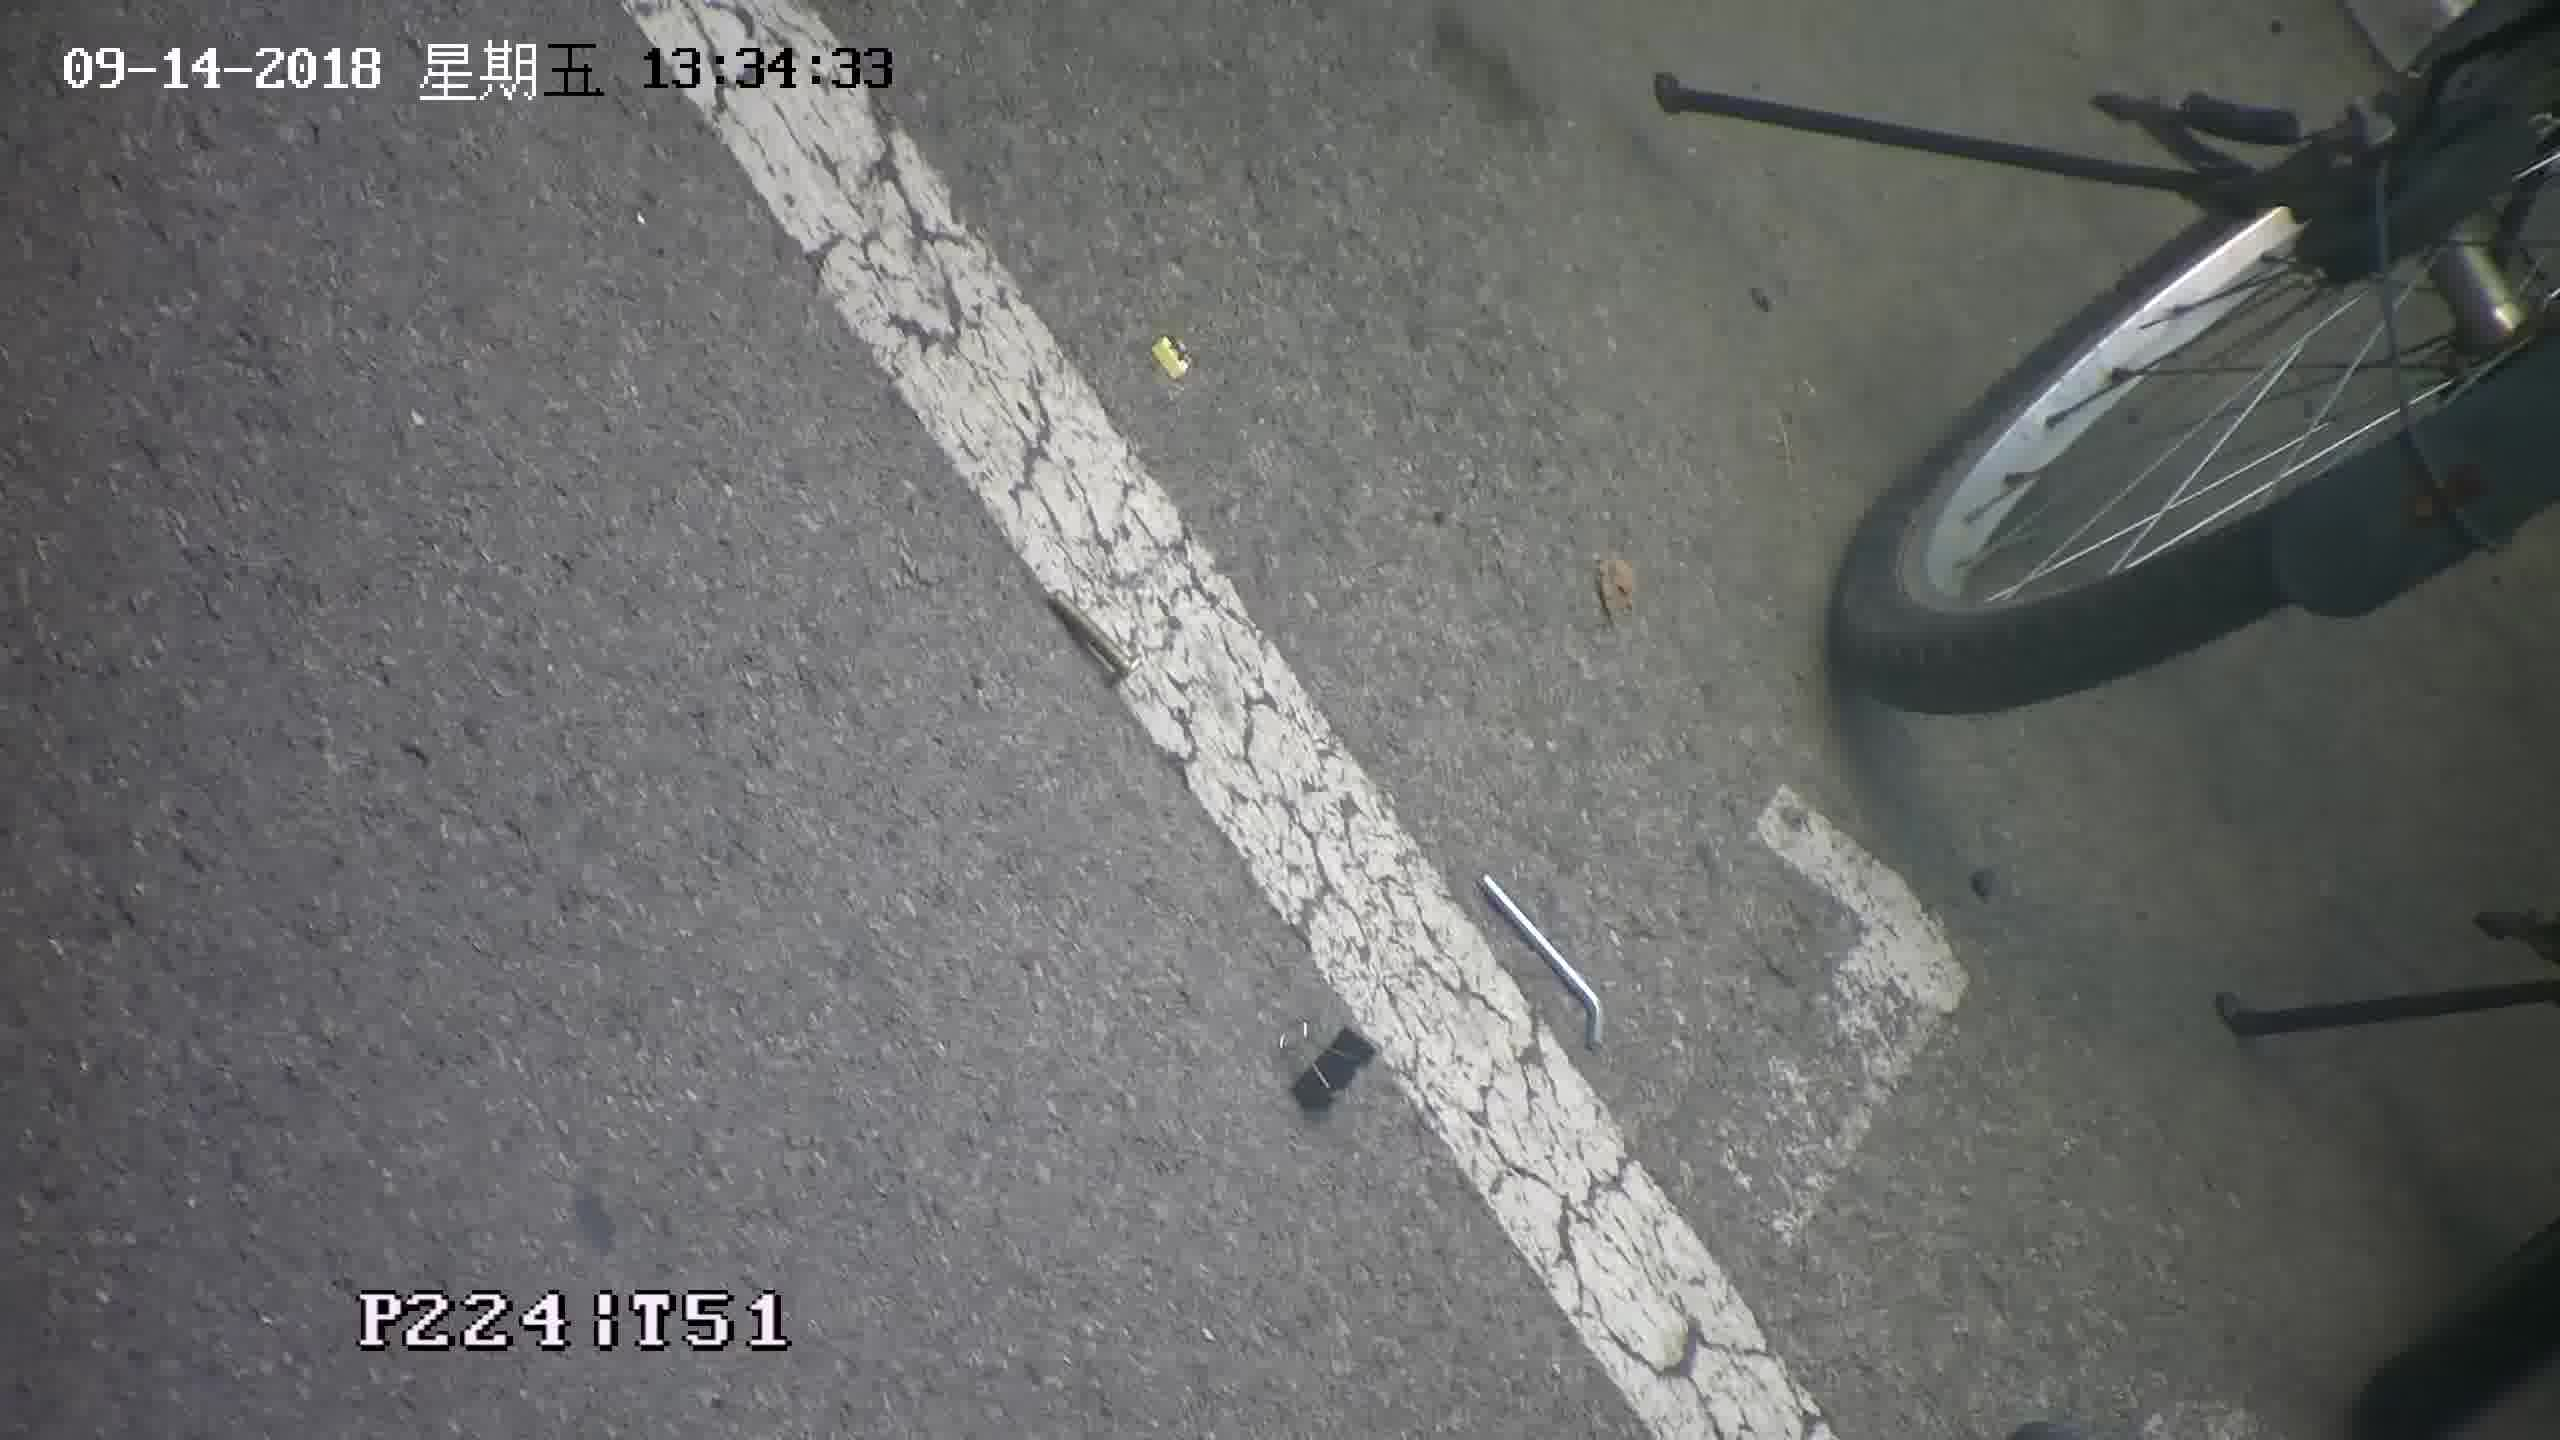L_stick: (1470, 862, 1621, 1064)
clip_B: (1276, 1009, 1387, 1122)
clip_Y: (1146, 332, 1203, 389)
nail: (1043, 578, 1150, 691)
